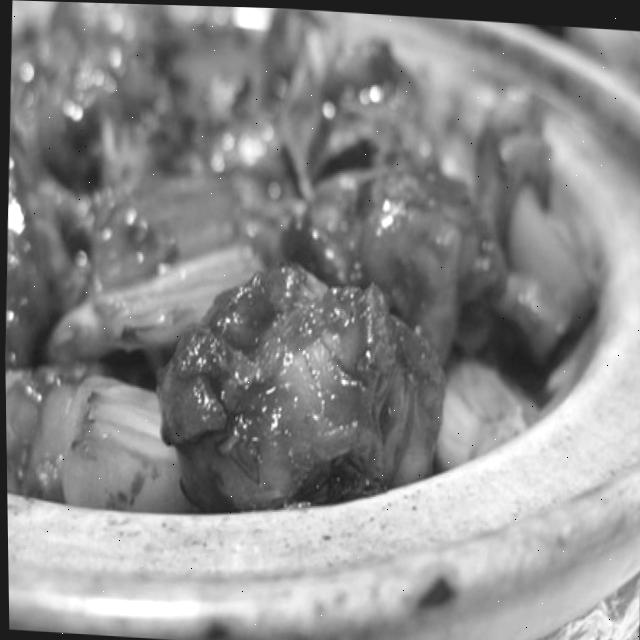鸡肉料理 含炸鸡: (0, 0, 586, 551)
